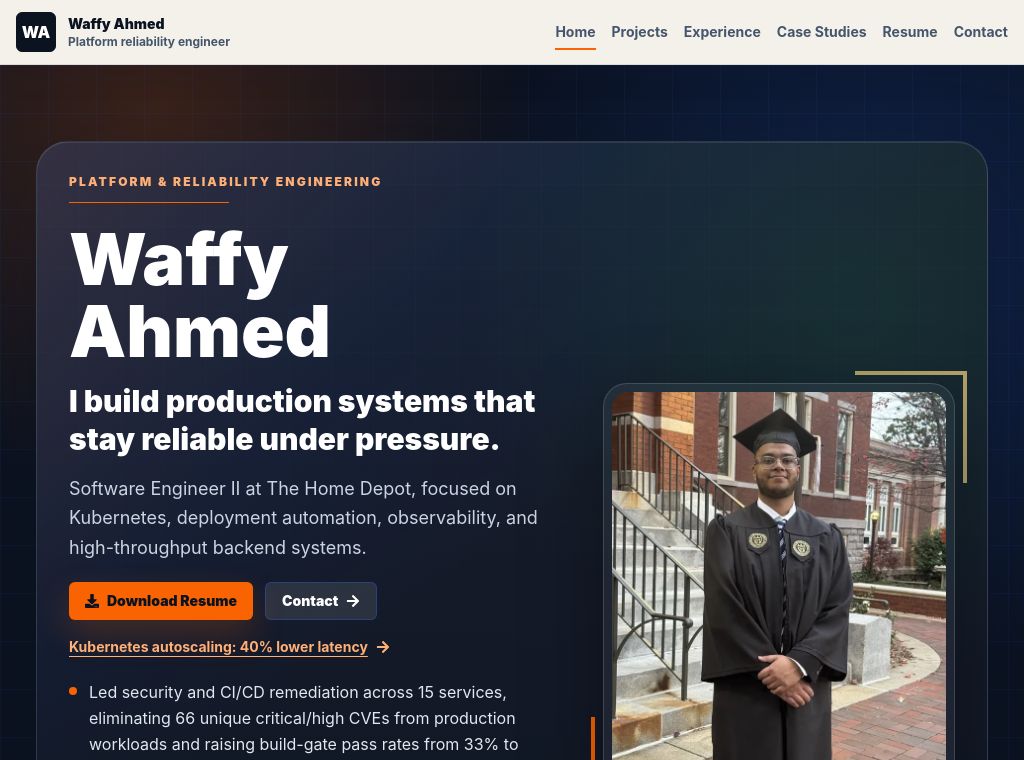
App routes › sends exactly one page view for an in-app navigation
Expected: the heading "Waffy Ahmed" is shown, [69,215,331,374]
Click the link "Projects": click(640, 32) [612,23,668,40]
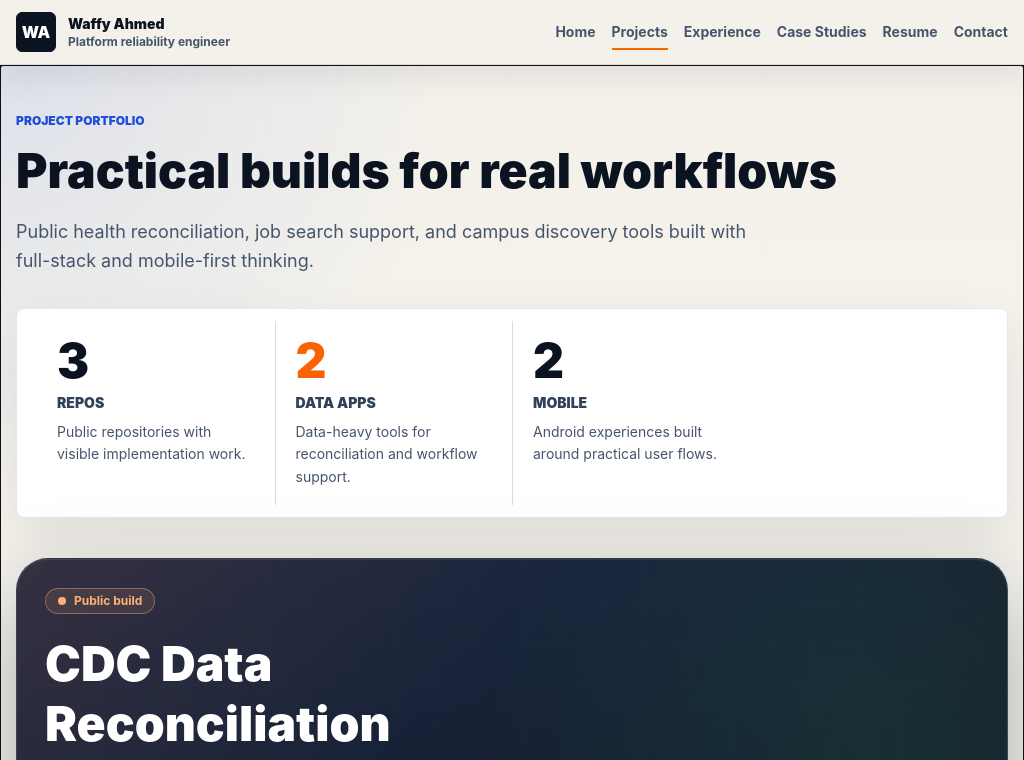
Expected: the heading "Practical builds for real workflows" is shown, [16,141,912,201]
